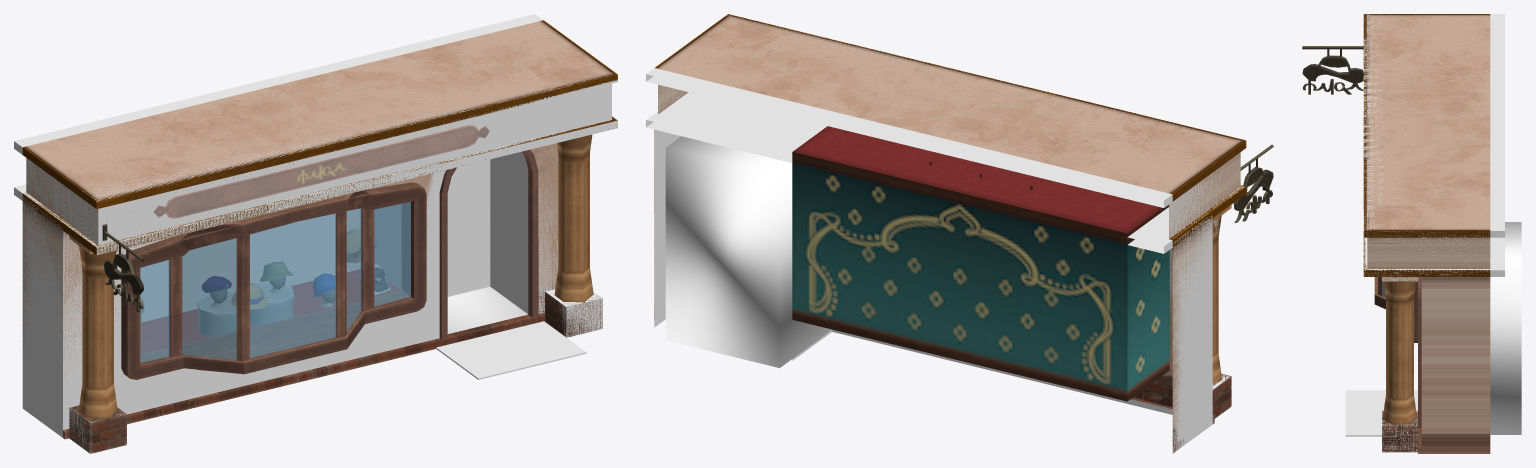
The model's file is objects_un_dressuphat01.gltf.
The picture shows the model from 3 angles, left to right: view 1: azimuth 30°, elevation 25°; view 2: azimuth 150°, elevation 25°; view 3: azimuth 270°, elevation 25°; orthographic projection. The views are drawn at different scales.
Visible parts, largest first — view 1: um_objects_un_dressuphat01_model_lod0Shape:objects_un_dressu (×6), um_objects_un_dressuphat01_model_lod1Shape:objects_un_dressu (×3), um_objects_un_dressuphat01_model_lod0Shape:objects_un_shoppi, nomerge_inside02_shape:objects_un_dressuphat01_inside01, um_objects_un_dressuphat01_model_lod2Shape:objects_un_dressu (×2), nomerge_objects_un_dressuphat01_symbol_shape:objects_un_dres; view 2: um_objects_un_dressuphat01_model_lod0Shape:objects_un_dressu (×3), nomerge_inside02_shape:objects_un_dressuphat01_inside01, nomerge_objects_un_dressuphat01_symbol_shape:objects_un_dres; view 3: um_objects_un_dressuphat01_model_lod0Shape:objects_un_dressu (×4), nomerge_inside02_shape:objects_un_dressuphat01_inside01, um_objects_un_dressuphat01_model_lod0Shape:objects_un_shoppi, nomerge_objects_un_dressuphat01_symbol_shape:objects_un_dres.
Part boxes in pixels (x1,y1,x2,y2): um_objects_un_dressuphat01_model_lod0Shape:objects_un_dressu (×6): (14, 14, 617, 453); um_objects_un_dressuphat01_model_lod1Shape:objects_un_dressu (×3): (63, 127, 544, 439); um_objects_un_dressuphat01_model_lod0Shape:objects_un_shoppi: (436, 321, 586, 379); nomerge_inside02_shape:objects_un_dressuphat01_inside01: (447, 286, 527, 333); um_objects_un_dressuphat01_model_lod2Shape:objects_un_dressu (×2): (63, 313, 544, 433); nomerge_objects_un_dressuphat01_symbol_shape:objects_un_dres: (102, 224, 144, 311); um_objects_un_dressuphat01_model_lod0Shape:objects_un_dressu (×3): (646, 14, 1246, 453); nomerge_inside02_shape:objects_un_dressuphat01_inside01: (665, 136, 831, 367); nomerge_objects_un_dressuphat01_symbol_shape:objects_un_dres: (1233, 144, 1273, 222); um_objects_un_dressuphat01_model_lod0Shape:objects_un_dressu (×4): (1363, 14, 1504, 453); nomerge_inside02_shape:objects_un_dressuphat01_inside01: (1490, 222, 1521, 434); um_objects_un_dressuphat01_model_lod0Shape:objects_un_shoppi: (1345, 390, 1417, 436); nomerge_objects_un_dressuphat01_symbol_shape:objects_un_dres: (1302, 46, 1363, 94).
Size of what is drawn, in the model's own units: 7.1 by 3.4 by 3.03.
9 materials, 6 textured.
